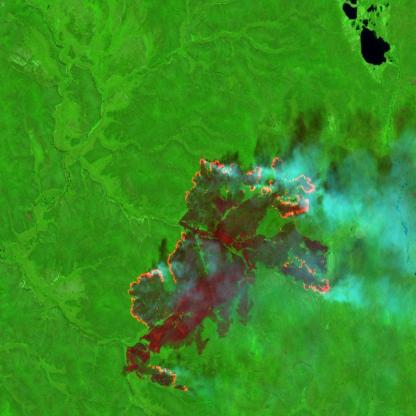fire: (127, 150, 333, 394)
